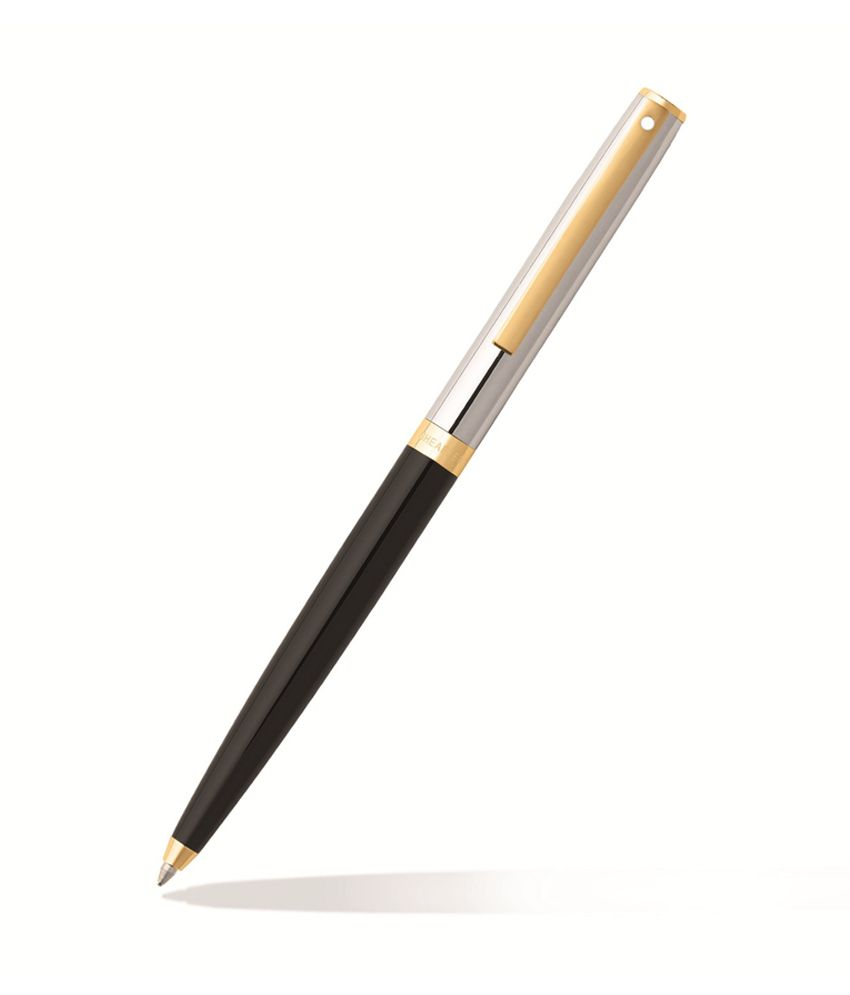pen: (149, 65, 690, 894)
